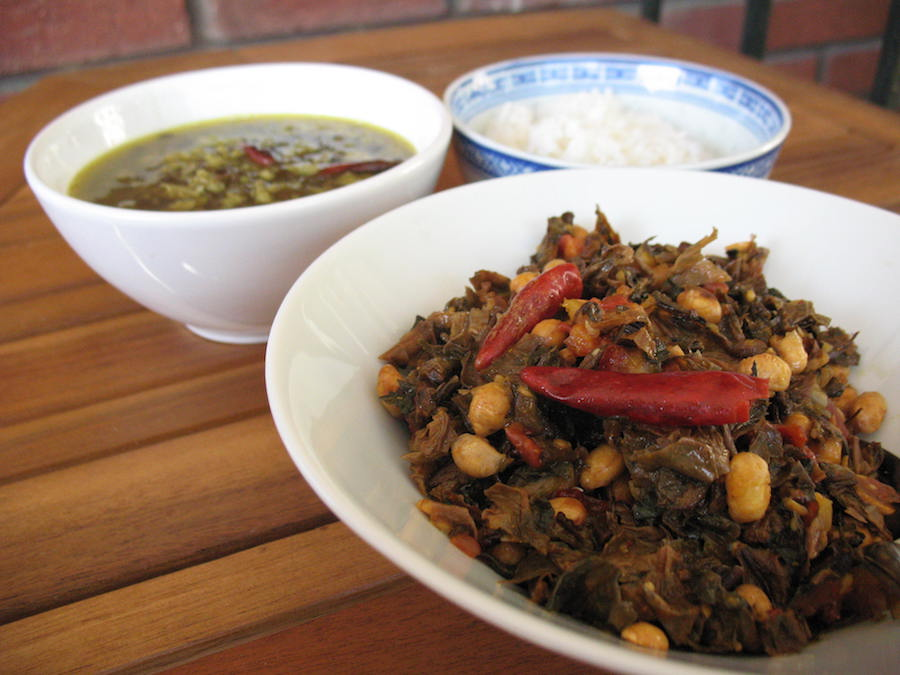gundruk: (405, 208, 893, 630)
